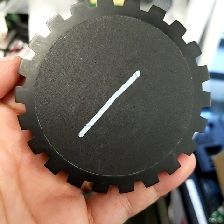gear: (13, 1, 213, 194)
